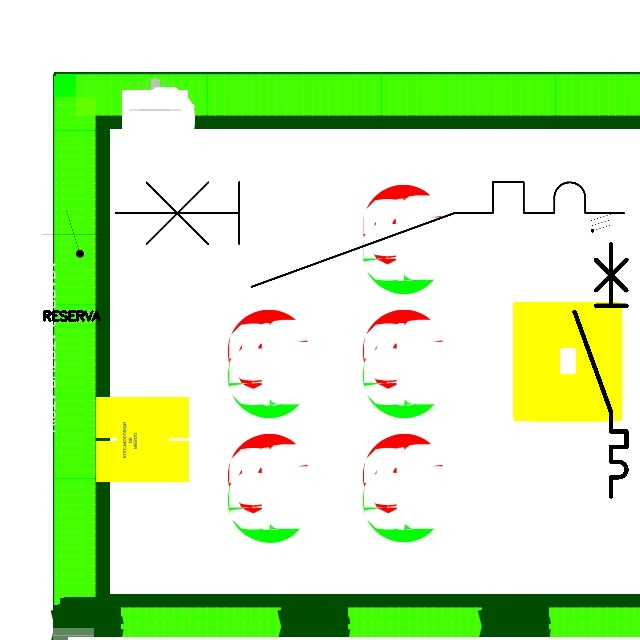interruptor_termomagnetico: (102, 169, 636, 300), (568, 237, 633, 502)
